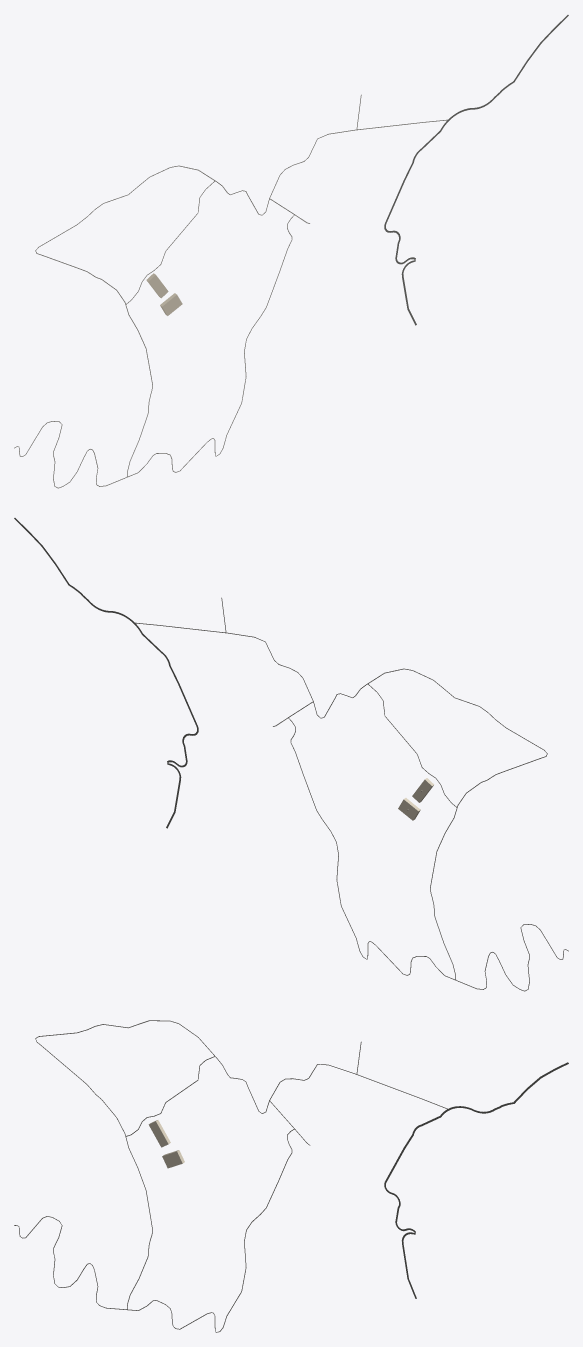
The model's file is historic-palestine-10_26_3523_3206.glb.
3 views of the same model, one above another, from view 1: azimuth 30°, elevation 25°; view 2: azimuth 150°, elevation 25°; view 3: azimuth 330°, elevation 25° (orthographic).
Visible parts, largest first — view 1: Road .002, Road .004; view 2: Road .002, Road .004; view 3: Road .002, Road .004, Road.
Part boxes in pixels (x1,y1,x2,y2): Road .002: [35, 119, 447, 476]; Road .004: [14, 215, 294, 488]; Road .002: [135, 622, 547, 979]; Road .004: [288, 718, 568, 991]; Road .002: [35, 1020, 447, 1309]; Road .004: [14, 1129, 294, 1332]; Road: [384, 1119, 433, 1298].
Size of the model in its own units: 1059 by 661 by 8.7.
